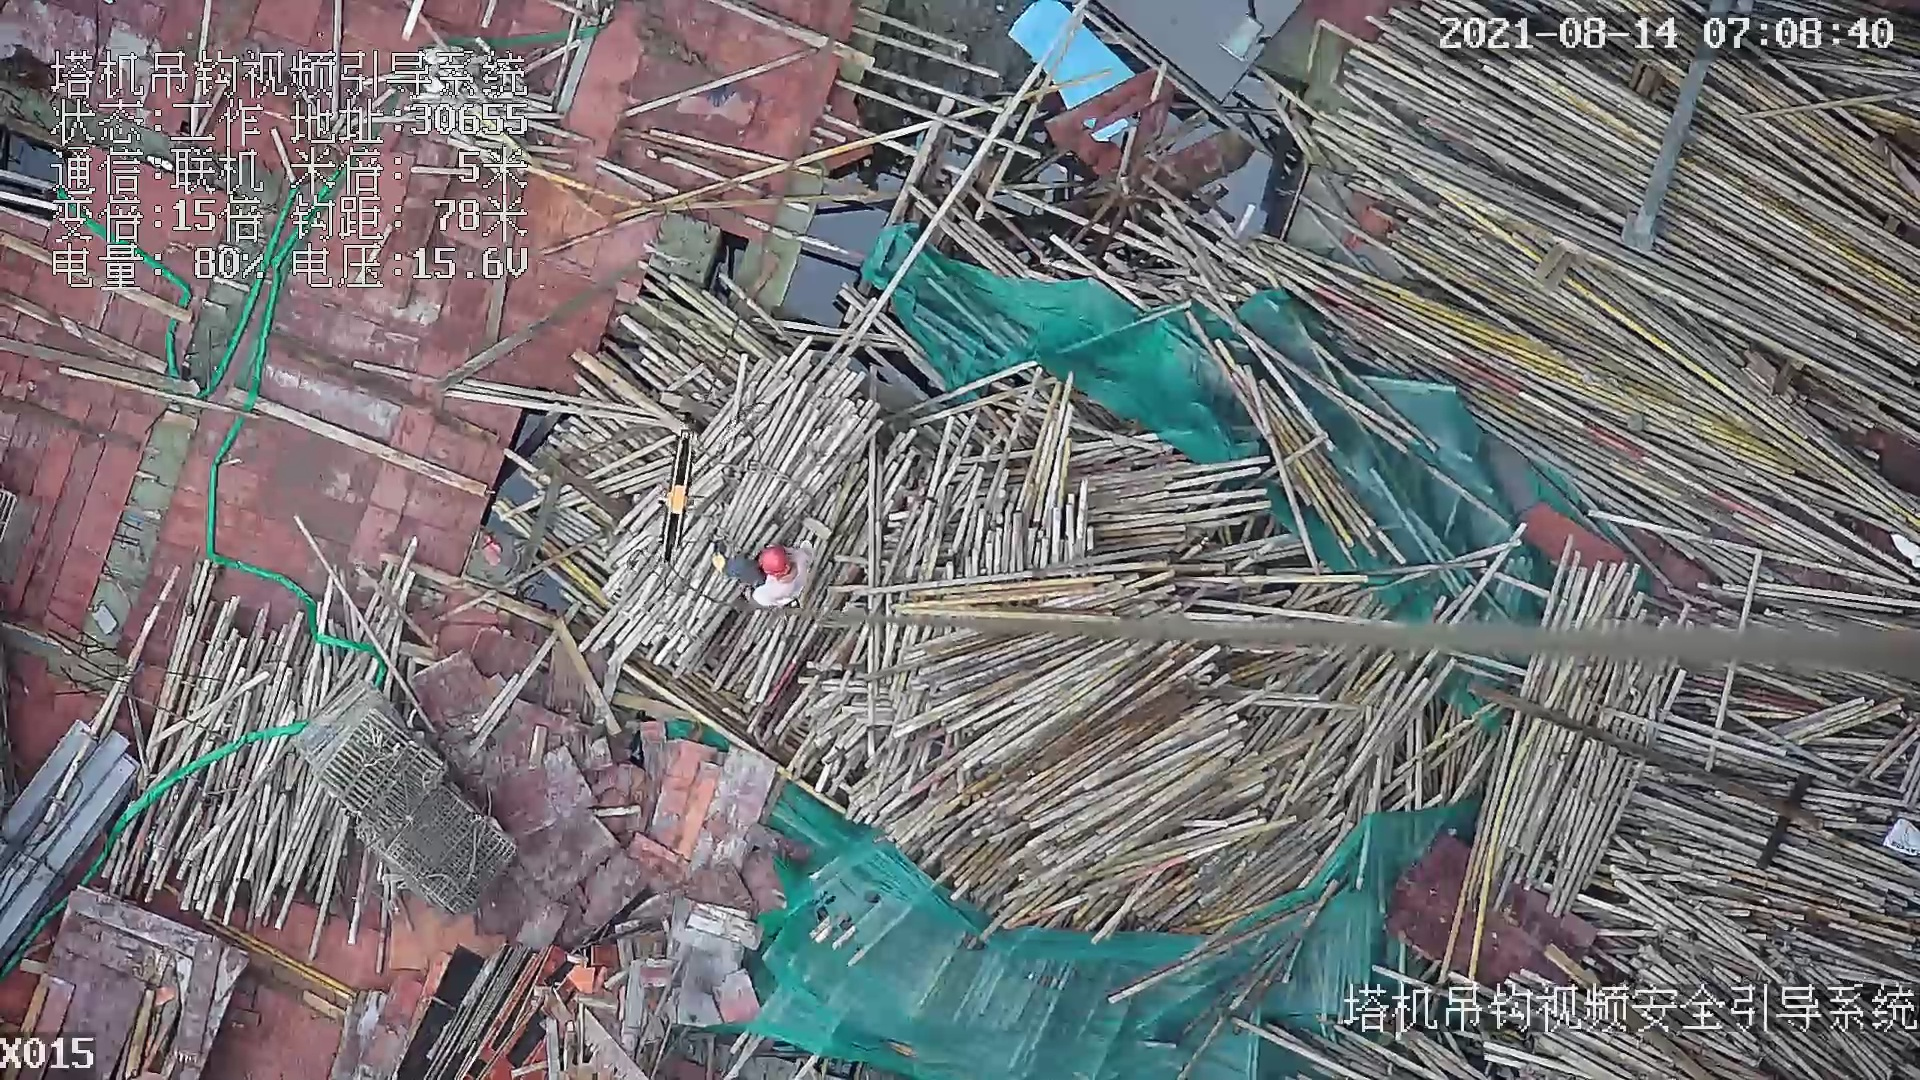helmet: (760, 547, 794, 576)
hook: (655, 428, 701, 564)
person: (718, 546, 814, 614)
